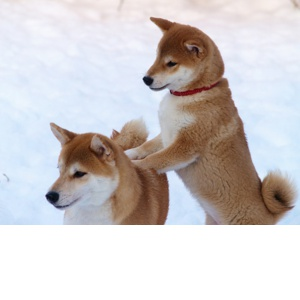dog: (134, 8, 295, 213), (24, 99, 177, 220)
